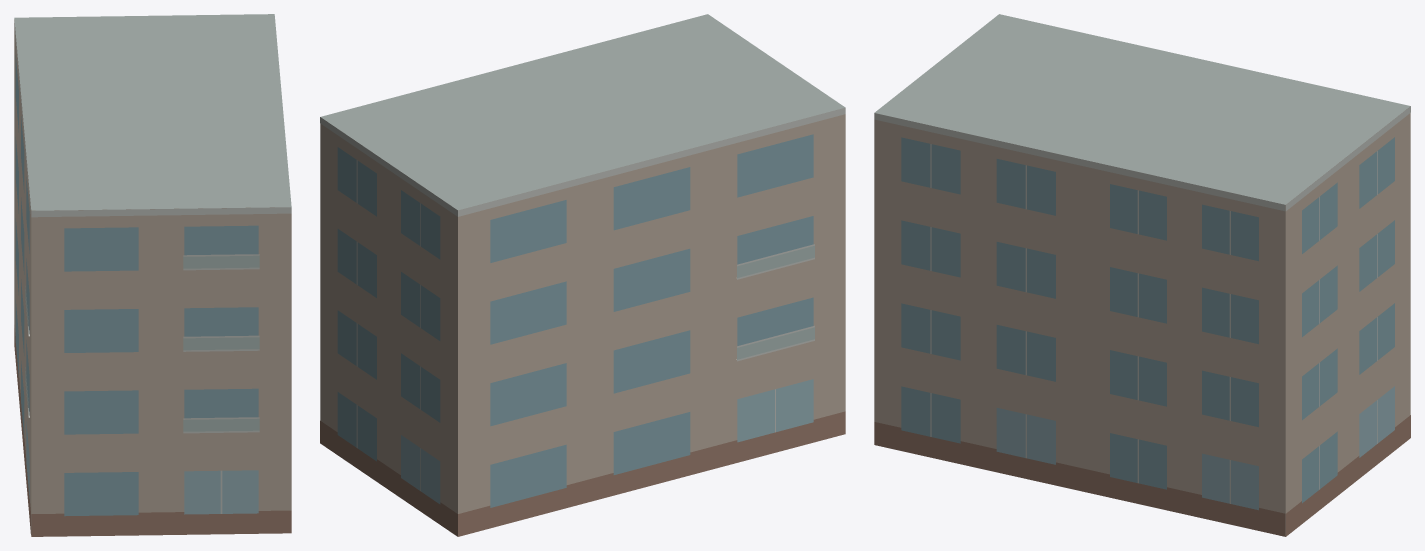
File: survey-upis-33011011.glb
3 renders of one model, left to right at view 1: azimuth 30°, elevation 25°; view 2: azimuth 150°, elevation 25°; view 3: azimuth 270°, elevation 25°, orthographic.
Parts seen in each view (by area): view 1: survey-upis-33011011.tmp; view 2: survey-upis-33011011.tmp; view 3: survey-upis-33011011.tmp.
Part boxes in pixels (x1=…): survey-upis-33011011.tmp: x1=14, y1=14, x2=291, y2=536; survey-upis-33011011.tmp: x1=320, y1=14, x2=845, y2=536; survey-upis-33011011.tmp: x1=874, y1=14, x2=1410, y2=536.
Bounding box in the file's own units: 15.17 × 12.3 × 18.02.
